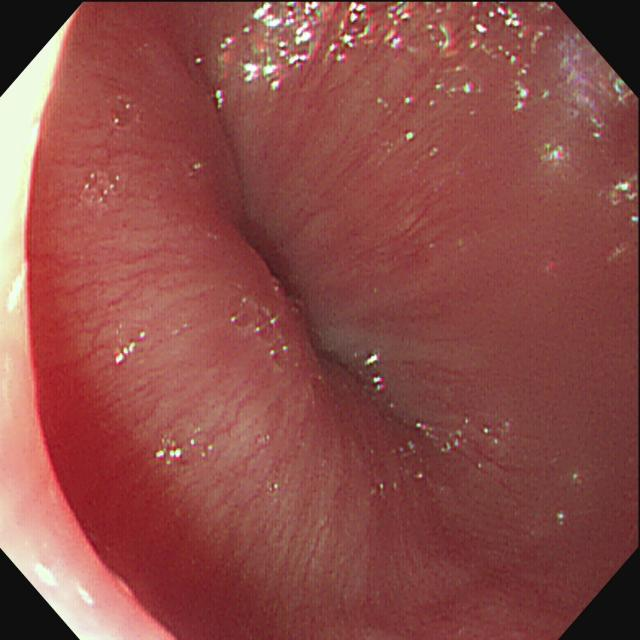T: (234, 300, 290, 372), (110, 93, 143, 134)
U: (214, 2, 554, 111), (555, 29, 635, 139), (153, 432, 214, 464), (536, 137, 579, 172), (111, 328, 148, 366), (362, 350, 385, 396), (610, 172, 638, 209)
